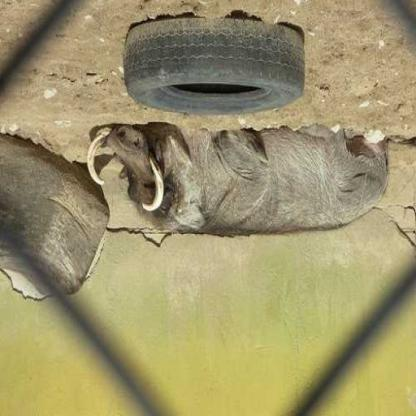boar: (94, 120, 388, 250)
